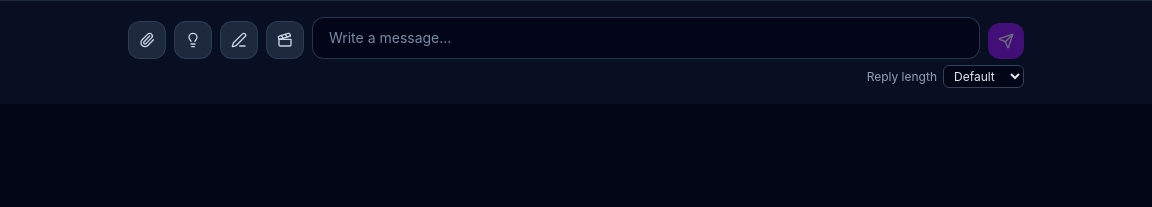
chat session loading › shows load errors, blocks sending and retains the composer draft through retry
In the text box: (646, 38) [312,17,980,59], type "Unsent draft"
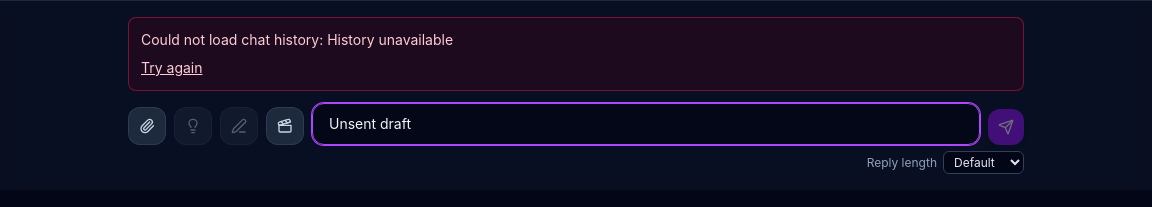
Expected: the button named "Send message" is disabled, [988,109,1024,145]
Expected: the message shows "History unavailable", [141,31,453,48]
Click the button "Try again": (172, 68) [141,58,202,78]
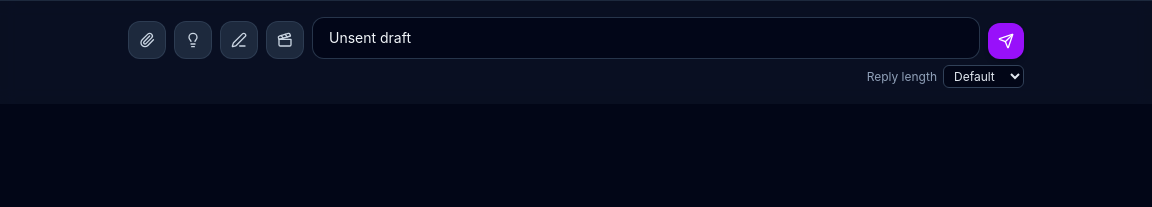
Expected: the message "Could not load chat history: History unavailable Try again" is gone
